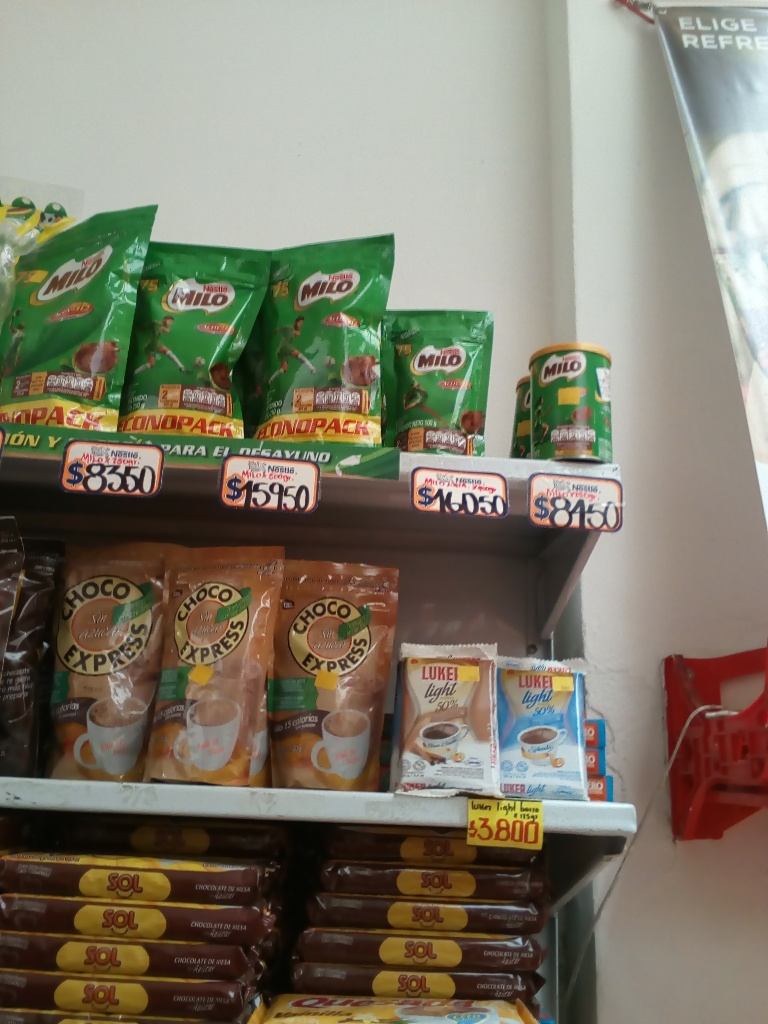COL0170203DYP10000: (398, 295, 499, 458)
COL0170203DYP50000: (0, 206, 158, 431)
COL0170203LAT20000: (525, 327, 621, 468)
